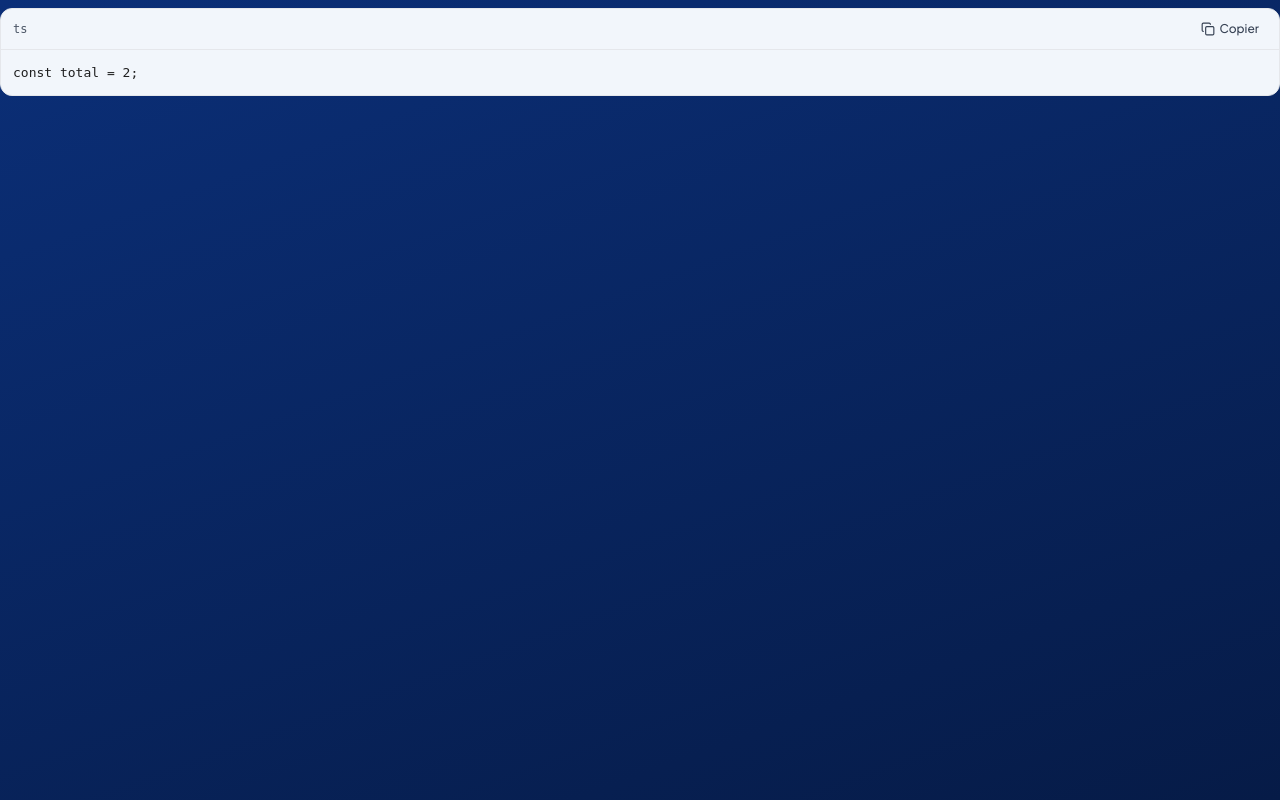
Test: RichText › dit que la copie a échoué si le presse-papiers est refusé
The image size is (1280, 800).
Click the button with aria-label "Copier le code ts": (1230, 29) [1194,13,1267,45]
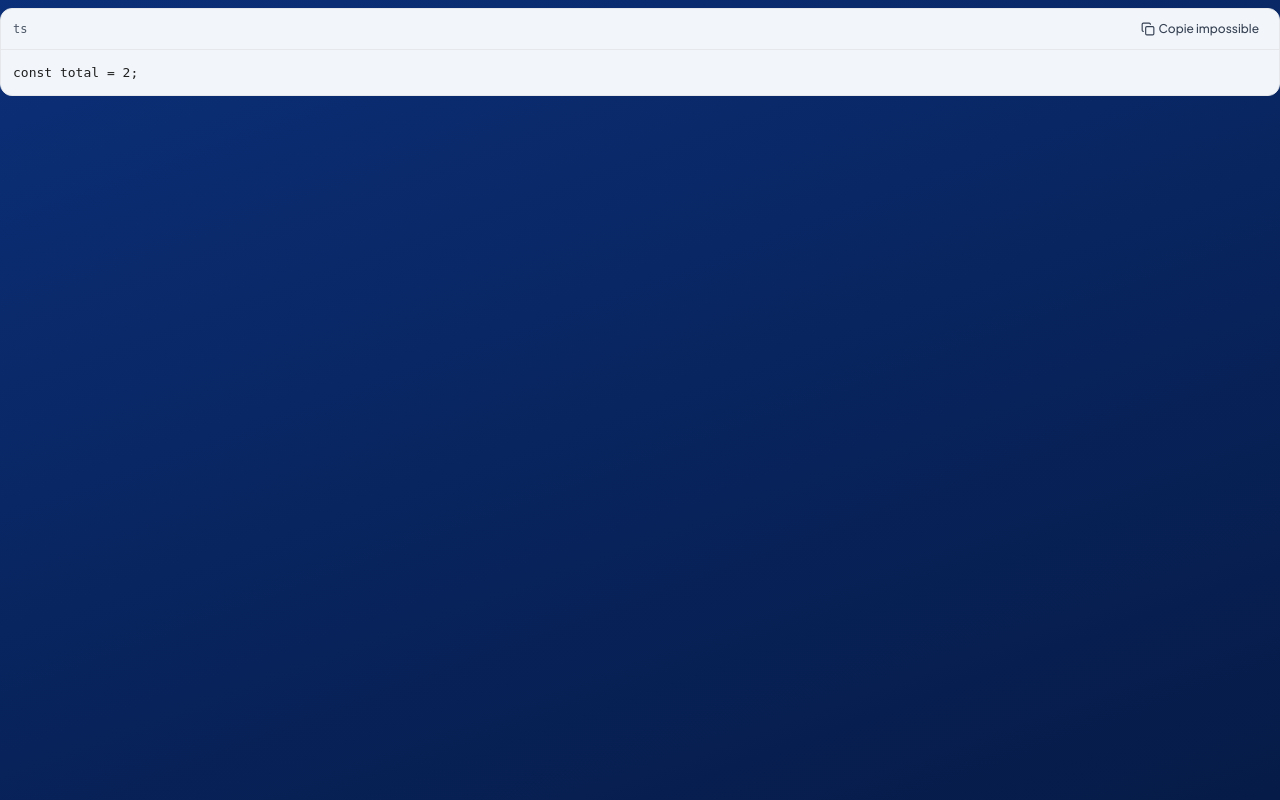
Now the button with aria-label "Copier le code ts" reads "Copie impossible", box [1133,13,1267,45]
